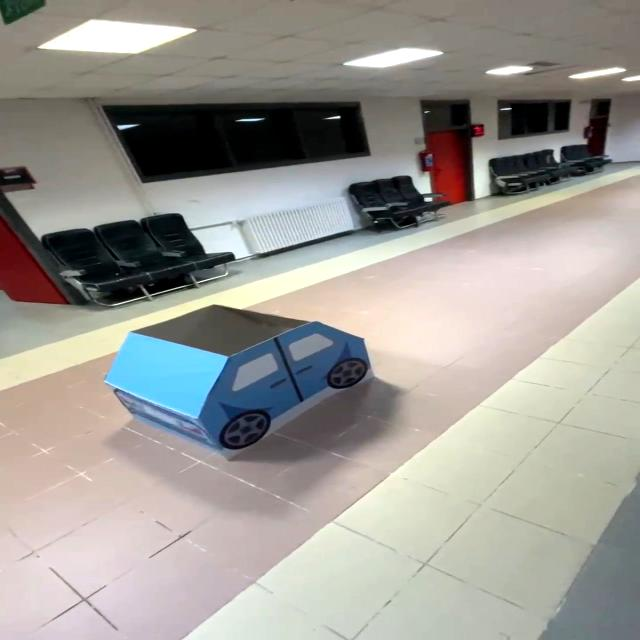blue_car: (100, 297, 384, 463)
